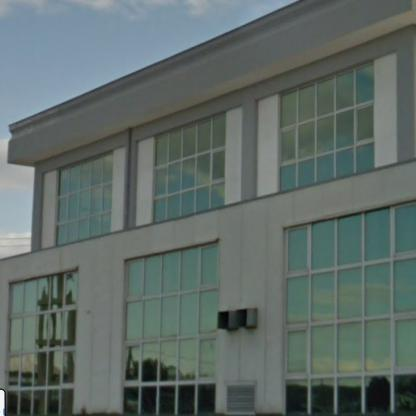window: (285, 202, 415, 415), (125, 245, 218, 413), (281, 65, 375, 190), (6, 272, 78, 416), (153, 114, 224, 222), (56, 154, 113, 246)
